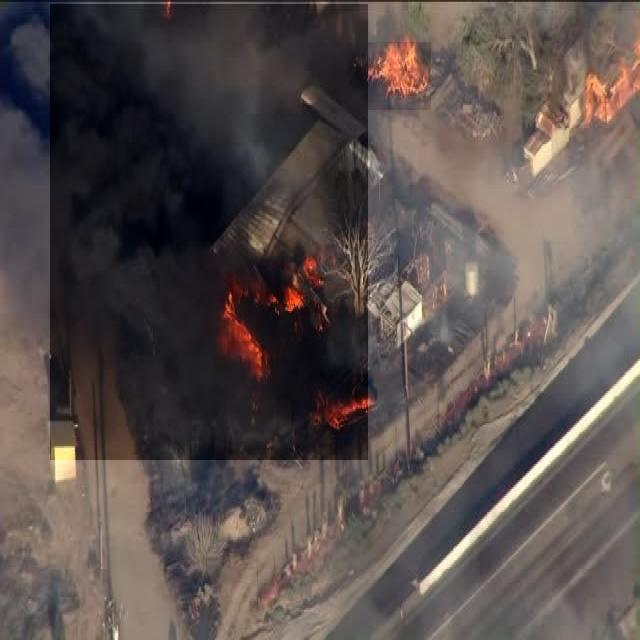Fire: (237, 250, 363, 420), (365, 42, 431, 110)
Smoke: (50, 4, 368, 460)
